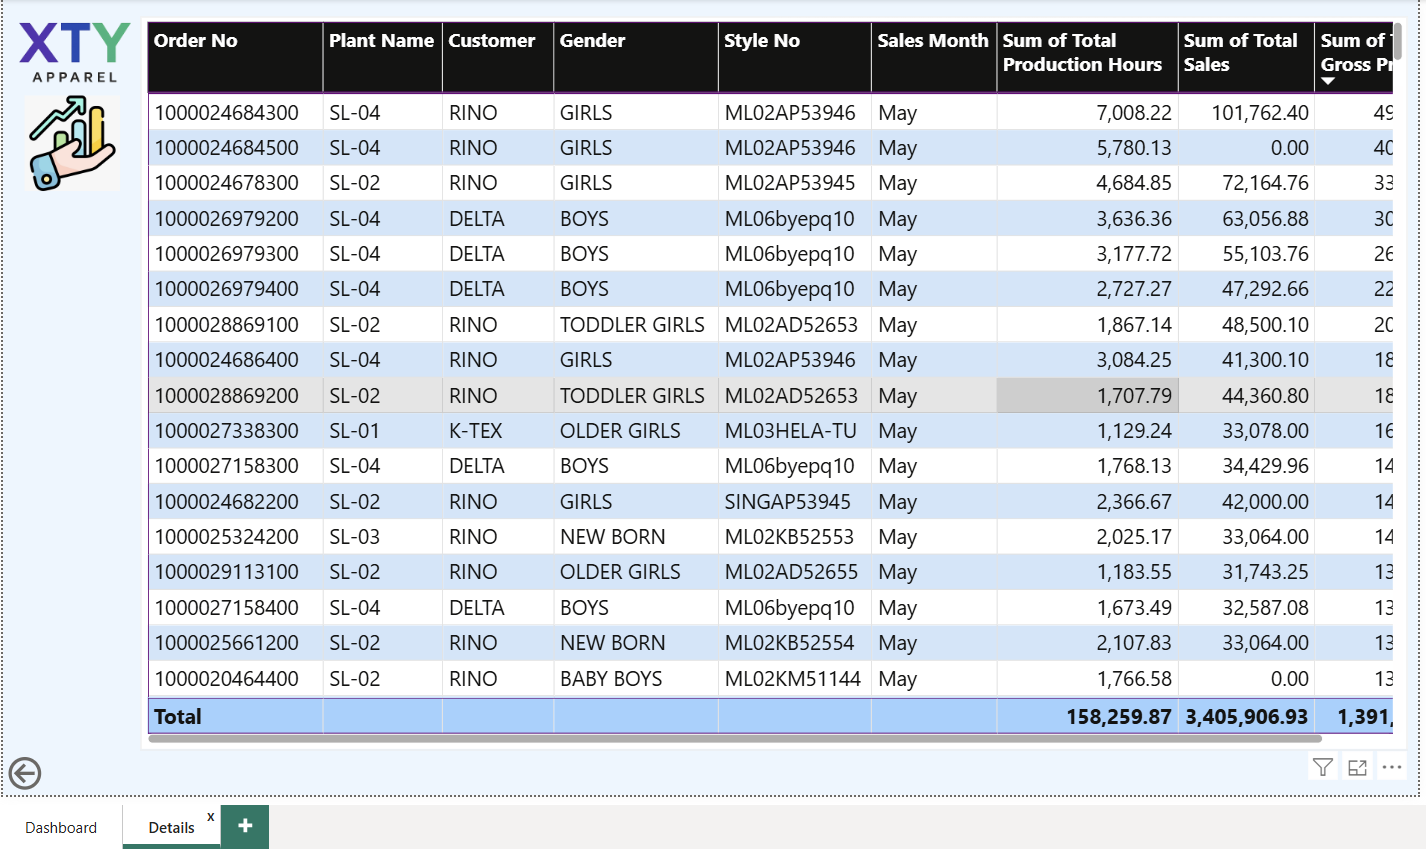

Layout of this report page (visuals, bound fields, positions):
{"tool":"powerbi","page":{"name":"Details","canvas":[1280,720],"ordinal":1},"visuals":[{"type":"image","box":[0,0,124.4,89.5],"z":0},{"type":"image","box":[15.1,76.7,96.5,107],"z":1000},{"type":"tableEx","fields":{"Values":["Master Sales Data.Order No","Master Sales Data.Plant Name","Master Sales Data.Customer","Master Sales Data.Gender","Master Sales Data.Style No","Master Sales Data.Sales Month  (Delivery Month)","Sum(Master Sales Data.Total Production  Hours )","Sum(Master Sales Data.Total Sales )","Sum(Master Sales Data.Total Gross Profit)"]},"box":[124.4,16.3,1146.5,662.8],"z":2000},{"type":"actionButton","box":[0,680.2,100,39.5],"z":3000}]}

Visuals, with their boxes on the page's 1280x720 design canvas (x1, y1, x2, y2). These are canvas units, not pixel positions in the 1426x849 screenshot, which may show the page scaled, cropped or inside an application window:
image: [x1=0, y1=0, x2=124, y2=90]
image: [x1=15, y1=77, x2=112, y2=184]
tableEx - Master Sales Data.Order No x Master Sales Data.Plant Name: [x1=124, y1=16, x2=1271, y2=679]
actionButton: [x1=0, y1=680, x2=100, y2=720]
